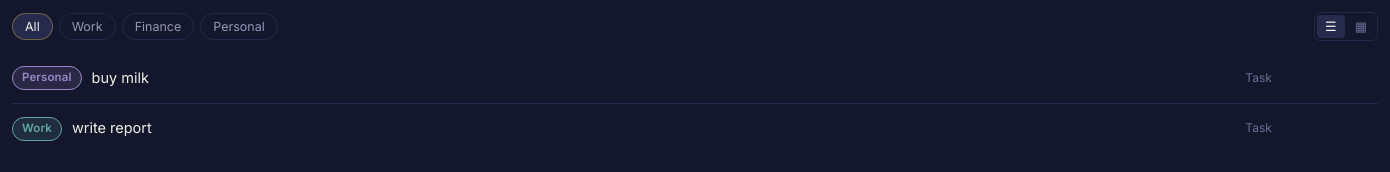
Scenario: EntryList › shows all entries again when All is selected
The width and height of the screenshot is (1390, 172).
Step 1. Click the button "Work" → (87, 26), box [59,13,116,40]
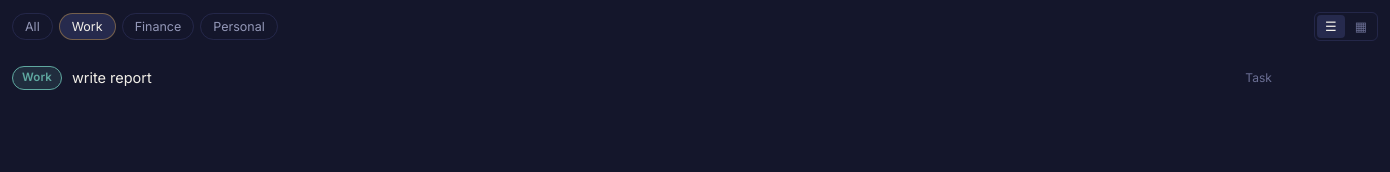
Step 2. Click the button "All" → (32, 26), box [12,13,53,40]
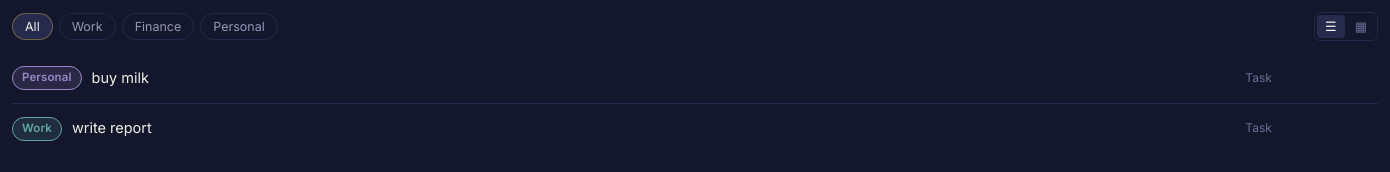
Expected: the text "write report" is shown, [72,120,152,136]
Now the text "buy milk" is shown, box [92,69,149,86]
